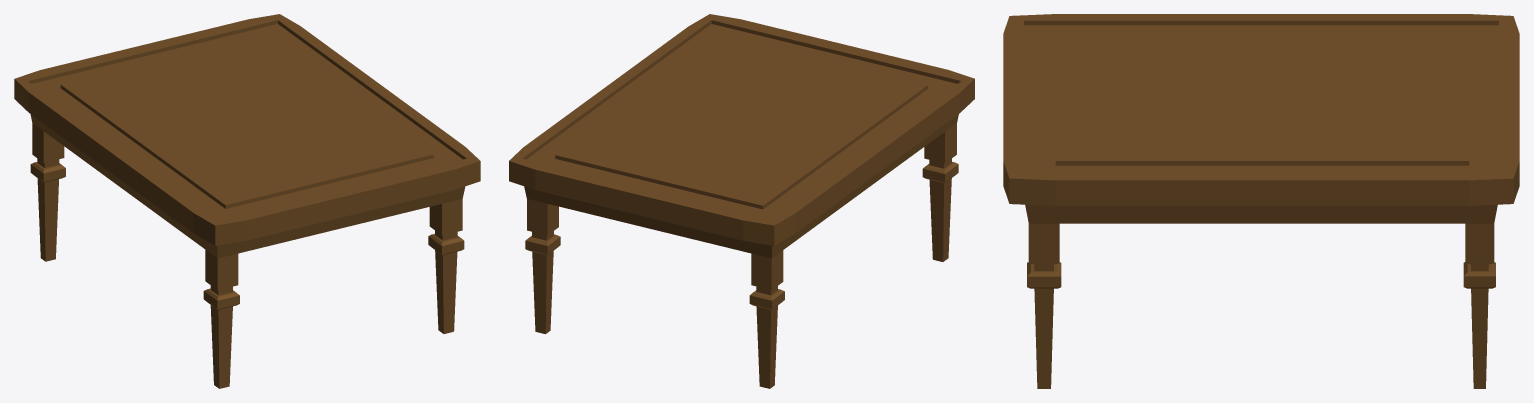
File: Table_v003(UV_Unwrapped).fbx
The picture shows the model from 3 angles, left to right: view 1: azimuth 30°, elevation 25°; view 2: azimuth 150°, elevation 25°; view 3: azimuth 270°, elevation 25°; orthographic projection. The views are drawn at different scales.
Visible parts, largest first — view 1: Table; view 2: Table; view 3: Table.
Boxes of the visible parts, <box> form: Table: <box>14,14,480,388</box>; Table: <box>509,14,974,388</box>; Table: <box>1003,14,1519,388</box>.
Size of the model in its own units: 96.98 by 59.75 by 127.
